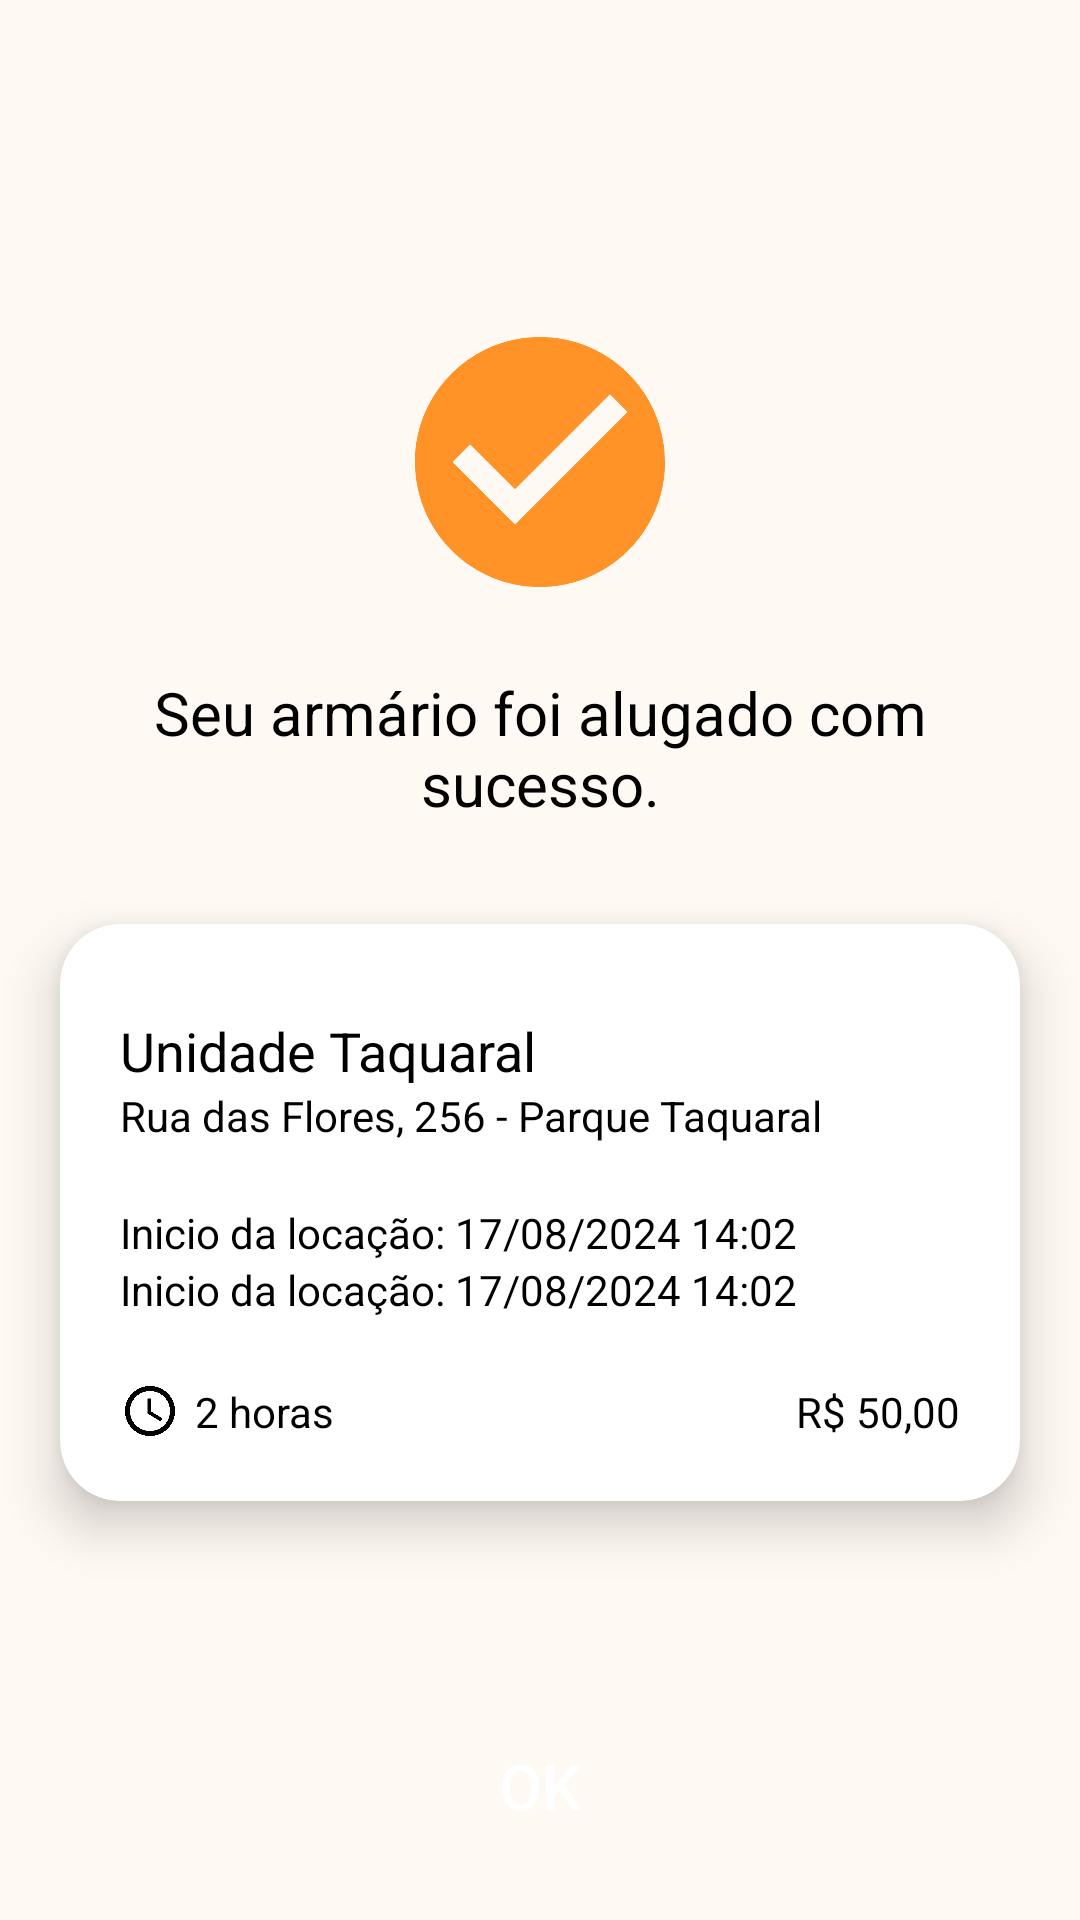

Screen size 1080x1920. Icon name, then its center in pixels as [x,y]:
clock: [150,1411]
